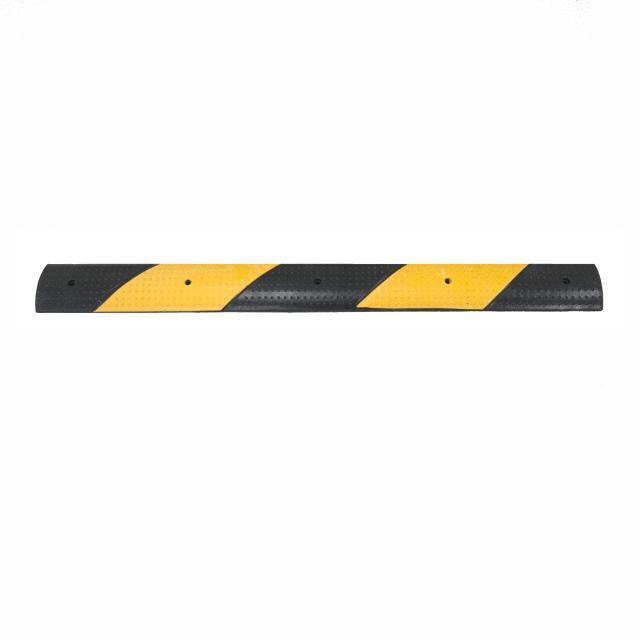Marked Bump: (48, 245, 632, 320)
